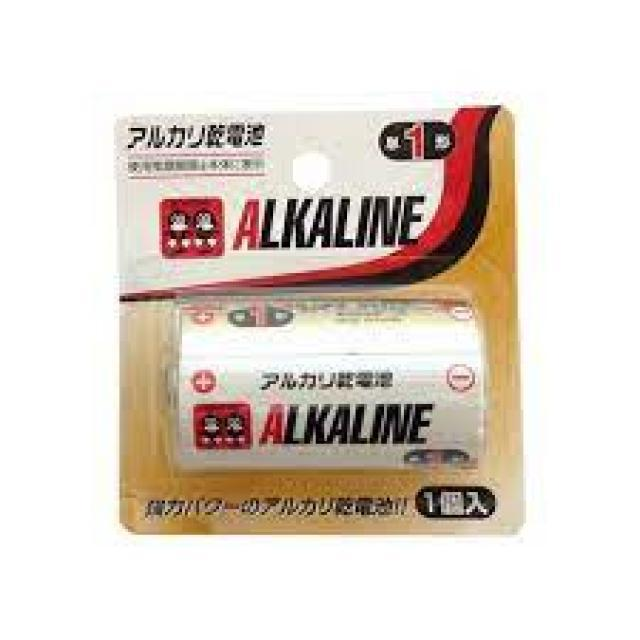hazardous waste: (164, 297, 491, 482)
